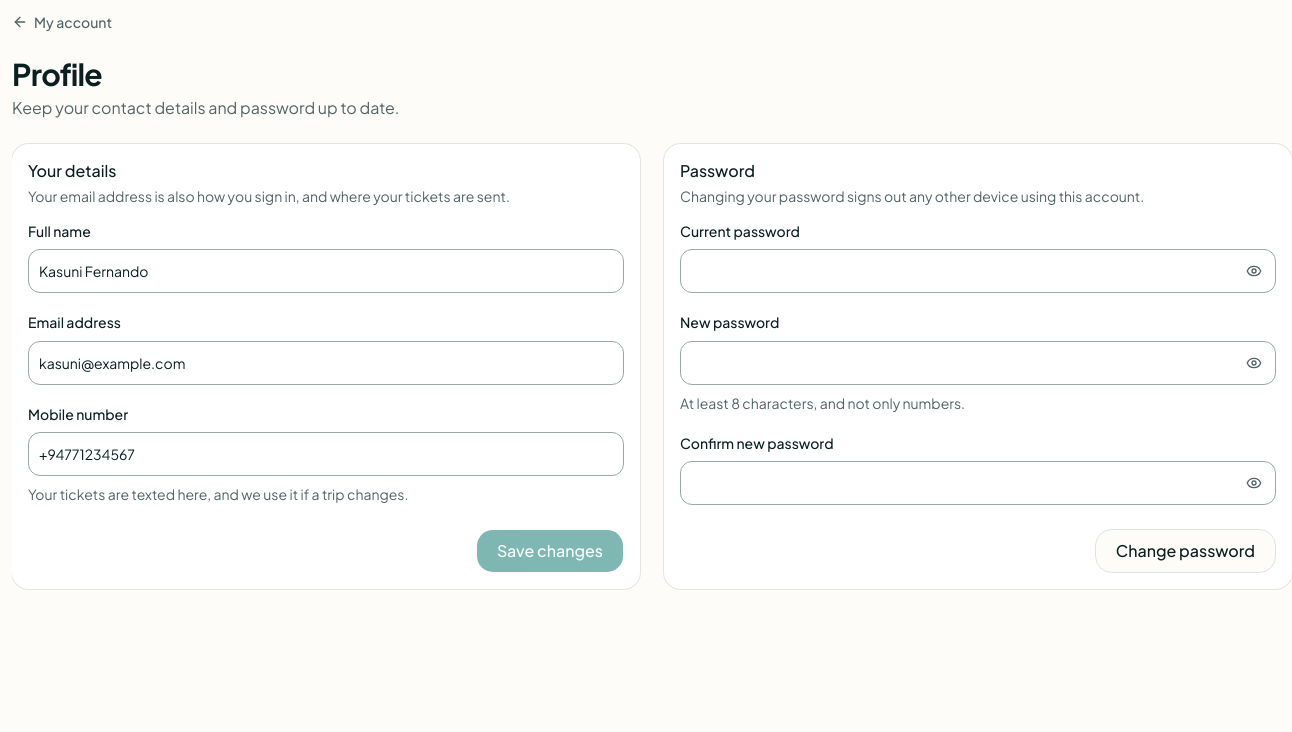
Scenario: ProfileSettings › refuses a bad phone number before asking the server
Replace the text in the field labelled "Mobile number" with "12" at x=326, y=454, box x1=28 y1=432 x2=624 y2=476
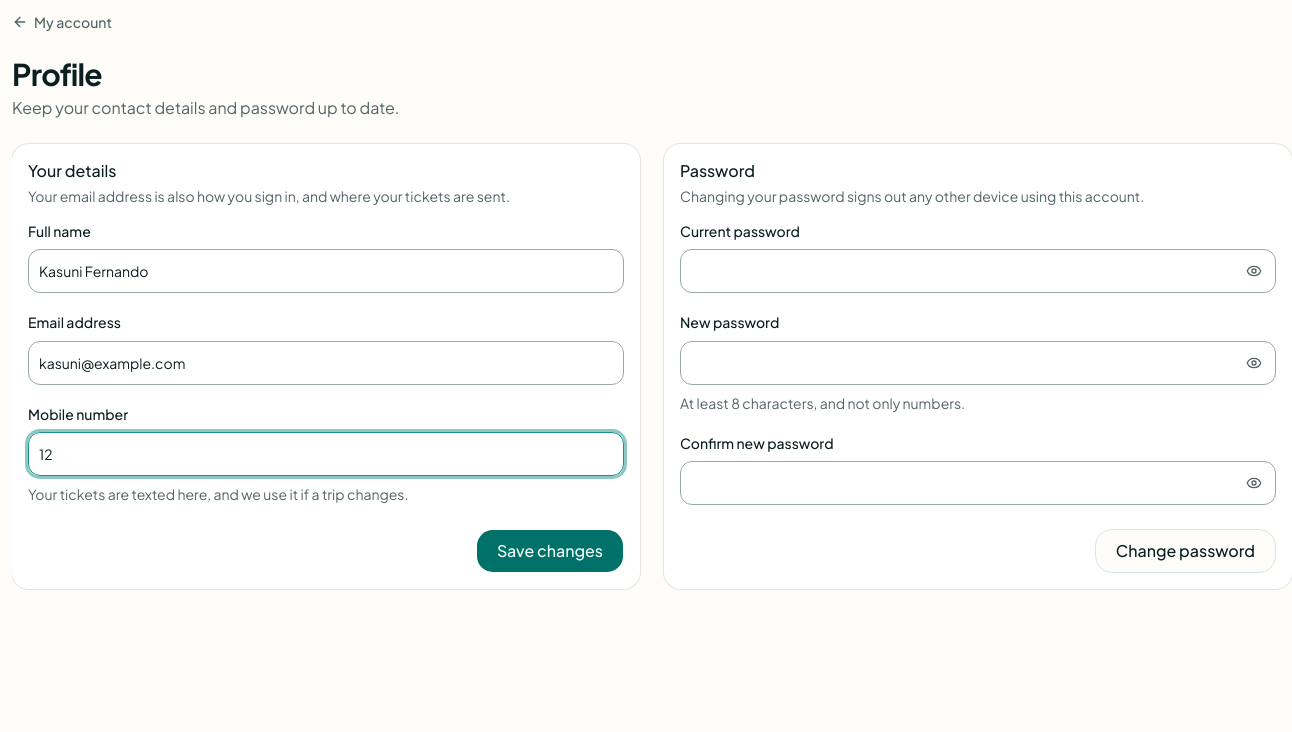
Click the button "Save changes" at x=550, y=551, box x1=476 y1=529 x2=624 y2=573
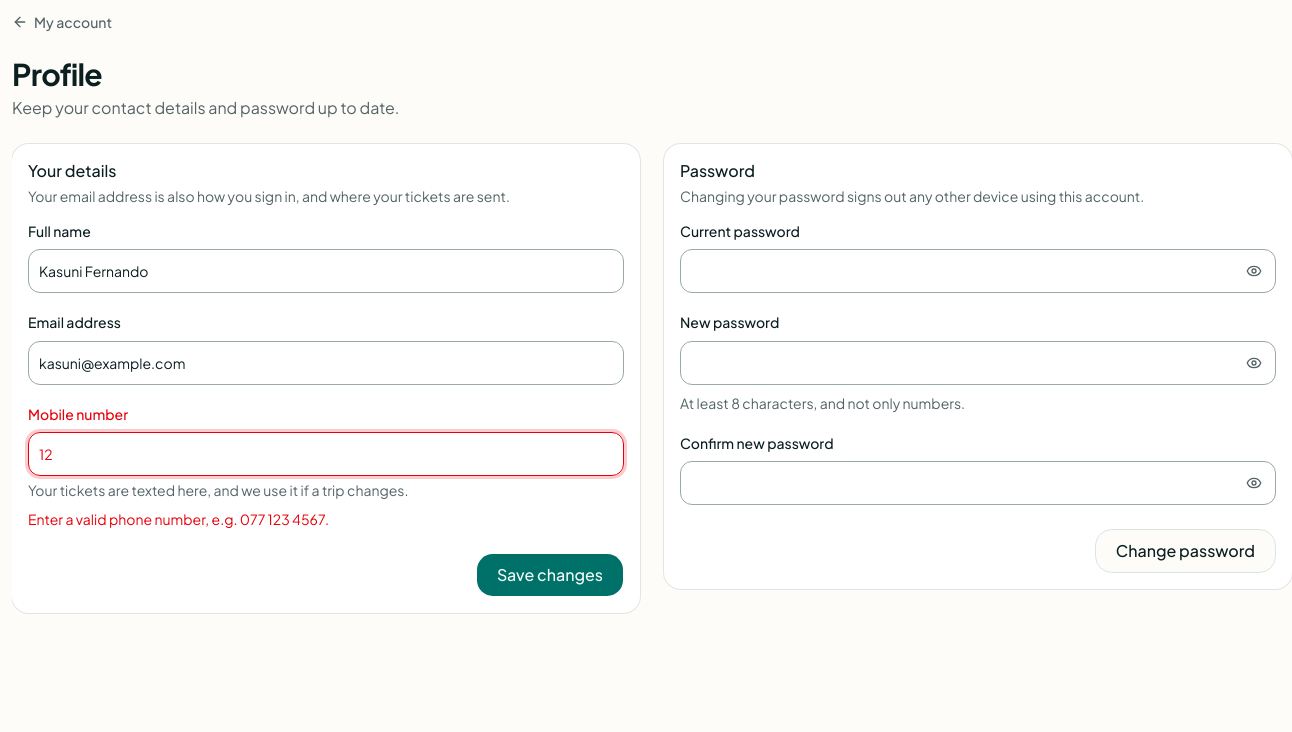
Check: the text "Enter a valid phone number, e.g. 077 123 4567." is shown, box x1=28 y1=510 x2=329 y2=528
